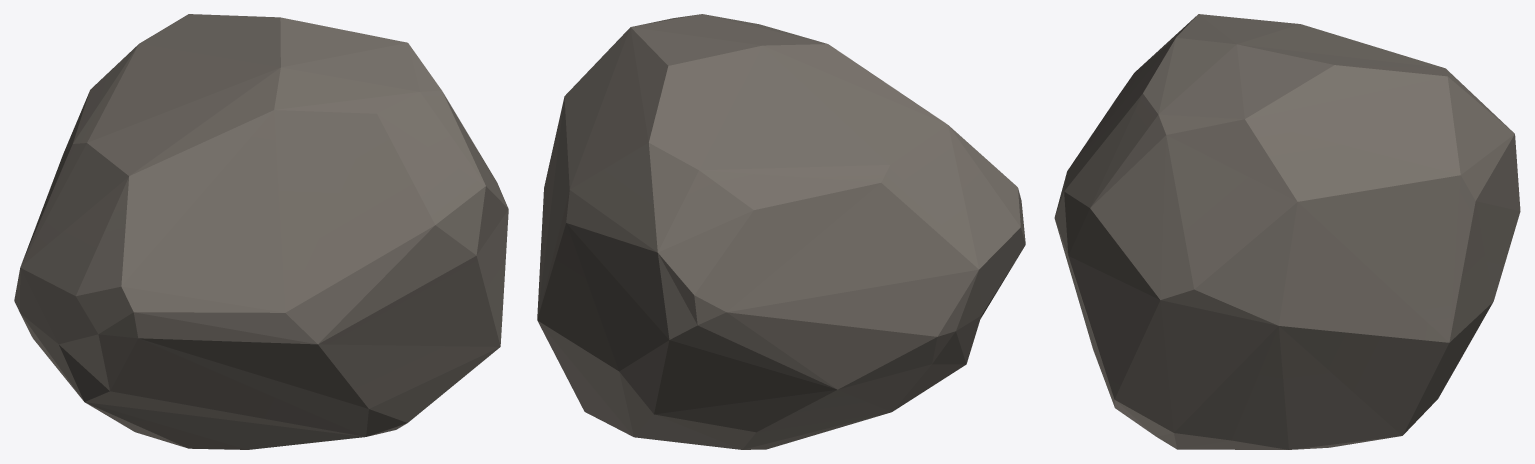
File: SM_Env_Rock_Round_01.fbx
The picture shows the model from 3 angles, left to right: view 1: azimuth 30°, elevation 25°; view 2: azimuth 150°, elevation 25°; view 3: azimuth 270°, elevation 25°; orthographic projection. The views are drawn at different scales.
Parts seen in each view (by area): view 1: SM_Env_Rock_Round_01; view 2: SM_Env_Rock_Round_01; view 3: SM_Env_Rock_Round_01.
Boxes of the visible parts, <box> form: SM_Env_Rock_Round_01: <box>14,14,508,449</box>; SM_Env_Rock_Round_01: <box>537,14,1025,449</box>; SM_Env_Rock_Round_01: <box>1054,14,1520,449</box>.
Bounding box in the file's own units: 604 × 544 × 493.
2 materials, 1 textured.
